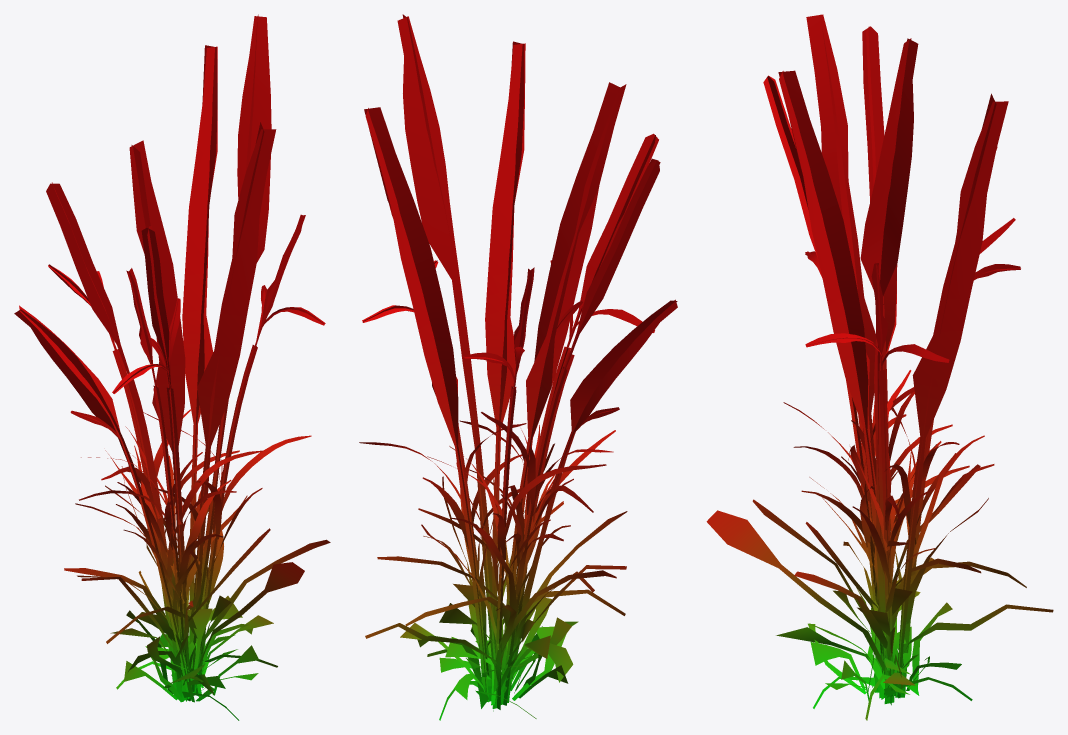
The model's file is Var1_LOD1.fbx.
The picture shows the model from 3 angles, left to right: view 1: azimuth 30°, elevation 25°; view 2: azimuth 150°, elevation 25°; view 3: azimuth 270°, elevation 25°; orthographic projection. The views are drawn at different scales.
Visible parts, largest first — view 1: _75e8_Var1_LOD1; view 2: _75e8_Var1_LOD1; view 3: _75e8_Var1_LOD1.
Boxes of the visible parts, left/top/right/bottom form: _75e8_Var1_LOD1: left=14, top=14, right=330, bottom=720; _75e8_Var1_LOD1: left=359, top=14, right=677, bottom=720; _75e8_Var1_LOD1: left=706, top=14, right=1053, bottom=720.
Bounding box in the file's own units: 26.65 × 55.1 × 24.64.
